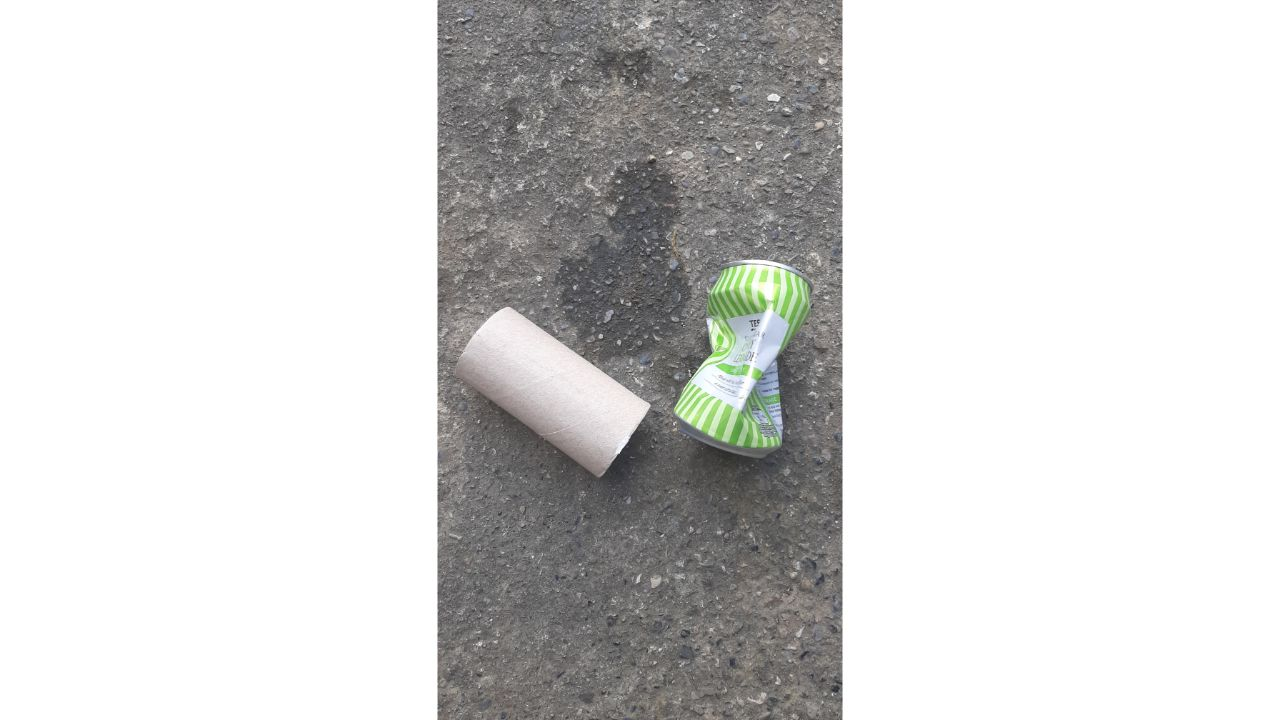Can: (664, 251, 821, 468)
